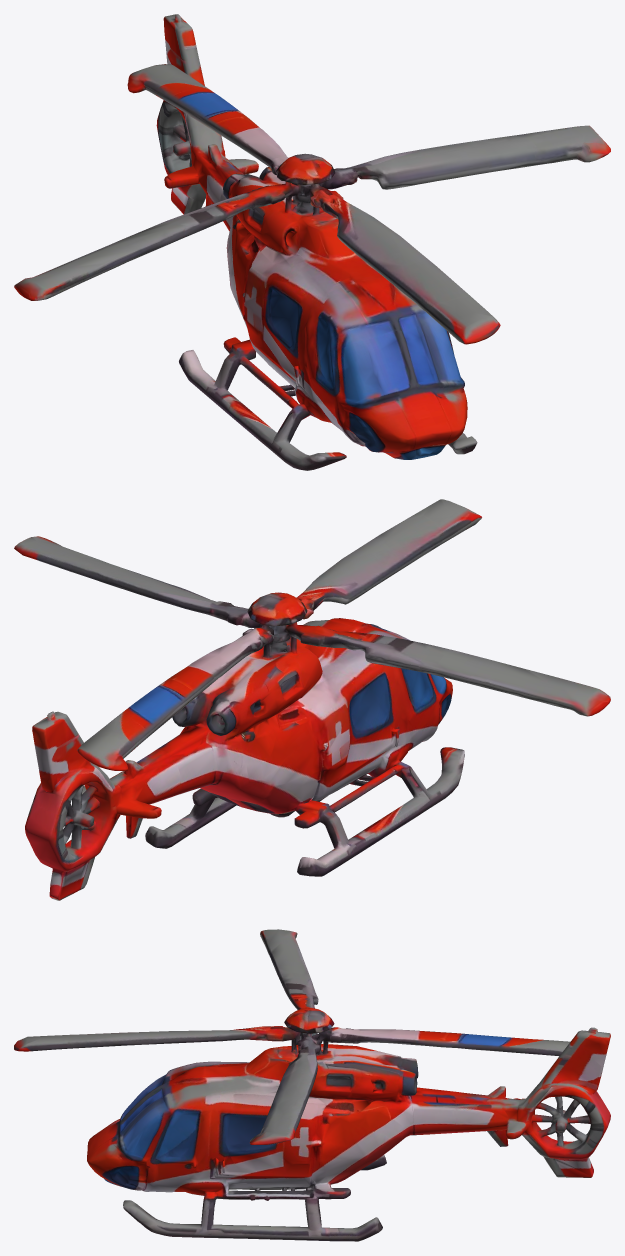
Rendered from helicoptero.glb.
3 views of the same model, one above another, from view 1: azimuth 30°, elevation 25°; view 2: azimuth 150°, elevation 25°; view 3: azimuth 270°, elevation 25° (orthographic). The views are drawn at different scales.
Visible parts, largest first — view 1: tripo_node_587db439-cabb-4c96-8803-550a450c0e31; view 2: tripo_node_587db439-cabb-4c96-8803-550a450c0e31; view 3: tripo_node_587db439-cabb-4c96-8803-550a450c0e31.
Boxes of the visible parts, x1,y1,x2,y2 form: tripo_node_587db439-cabb-4c96-8803-550a450c0e31: (14,14,610,470); tripo_node_587db439-cabb-4c96-8803-550a450c0e31: (14,499,610,900); tripo_node_587db439-cabb-4c96-8803-550a450c0e31: (14,929,610,1241).
Size of the model in its own units: 0.8991 by 0.3704 by 0.9993.
Materials: 1 (1 with a texture image).
